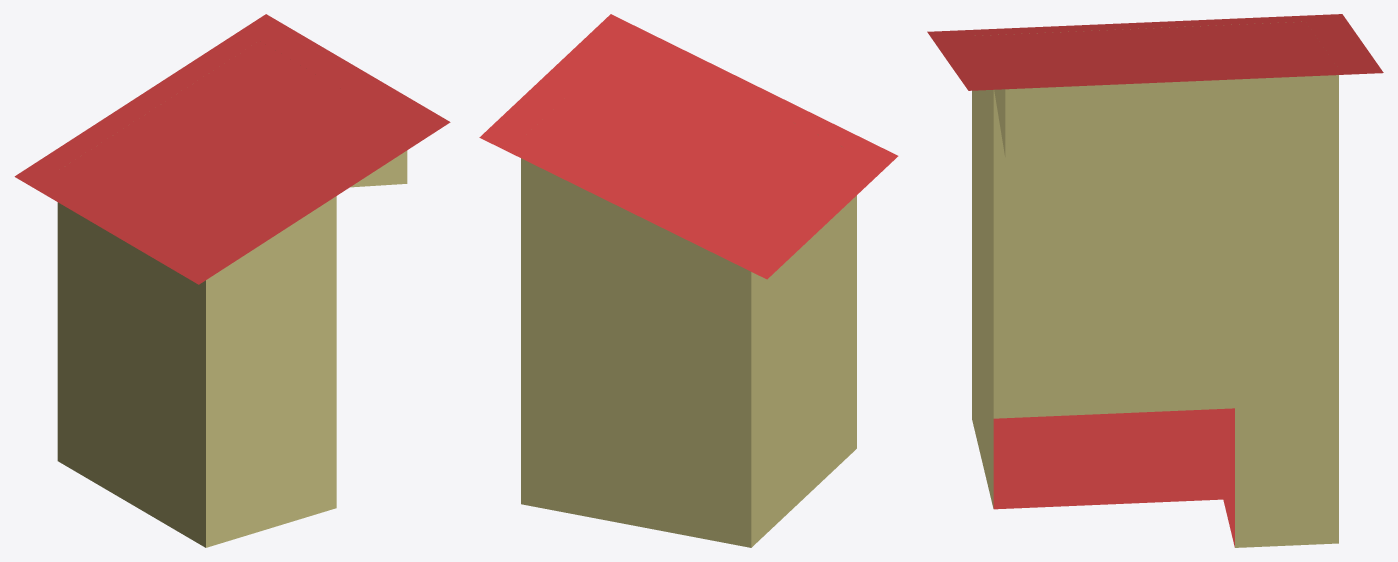
The picture shows the model from 3 angles, left to right: view 1: azimuth 30°, elevation 25°; view 2: azimuth 150°, elevation 25°; view 3: azimuth 270°, elevation 25°; orthographic projection. The views are drawn at different scales.
Size of the model in its own units: 5.48 by 5.55 by 6.52.
